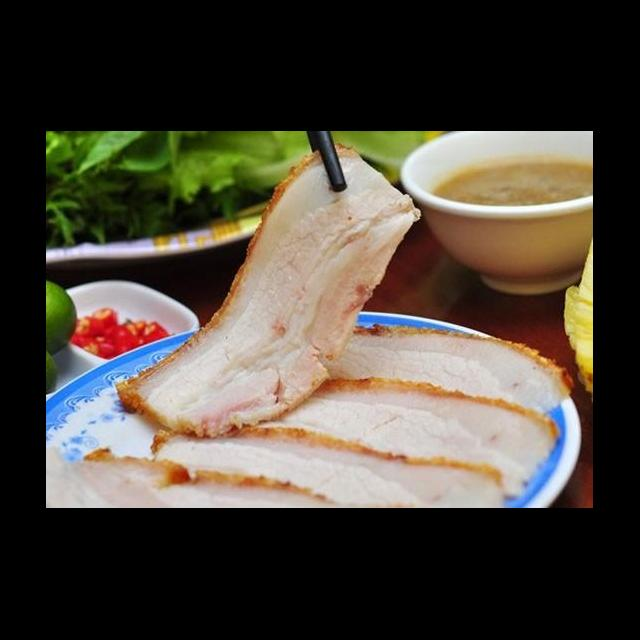thit heo quay: (112, 138, 424, 440), (234, 372, 564, 502), (148, 419, 510, 508), (286, 318, 578, 426)
